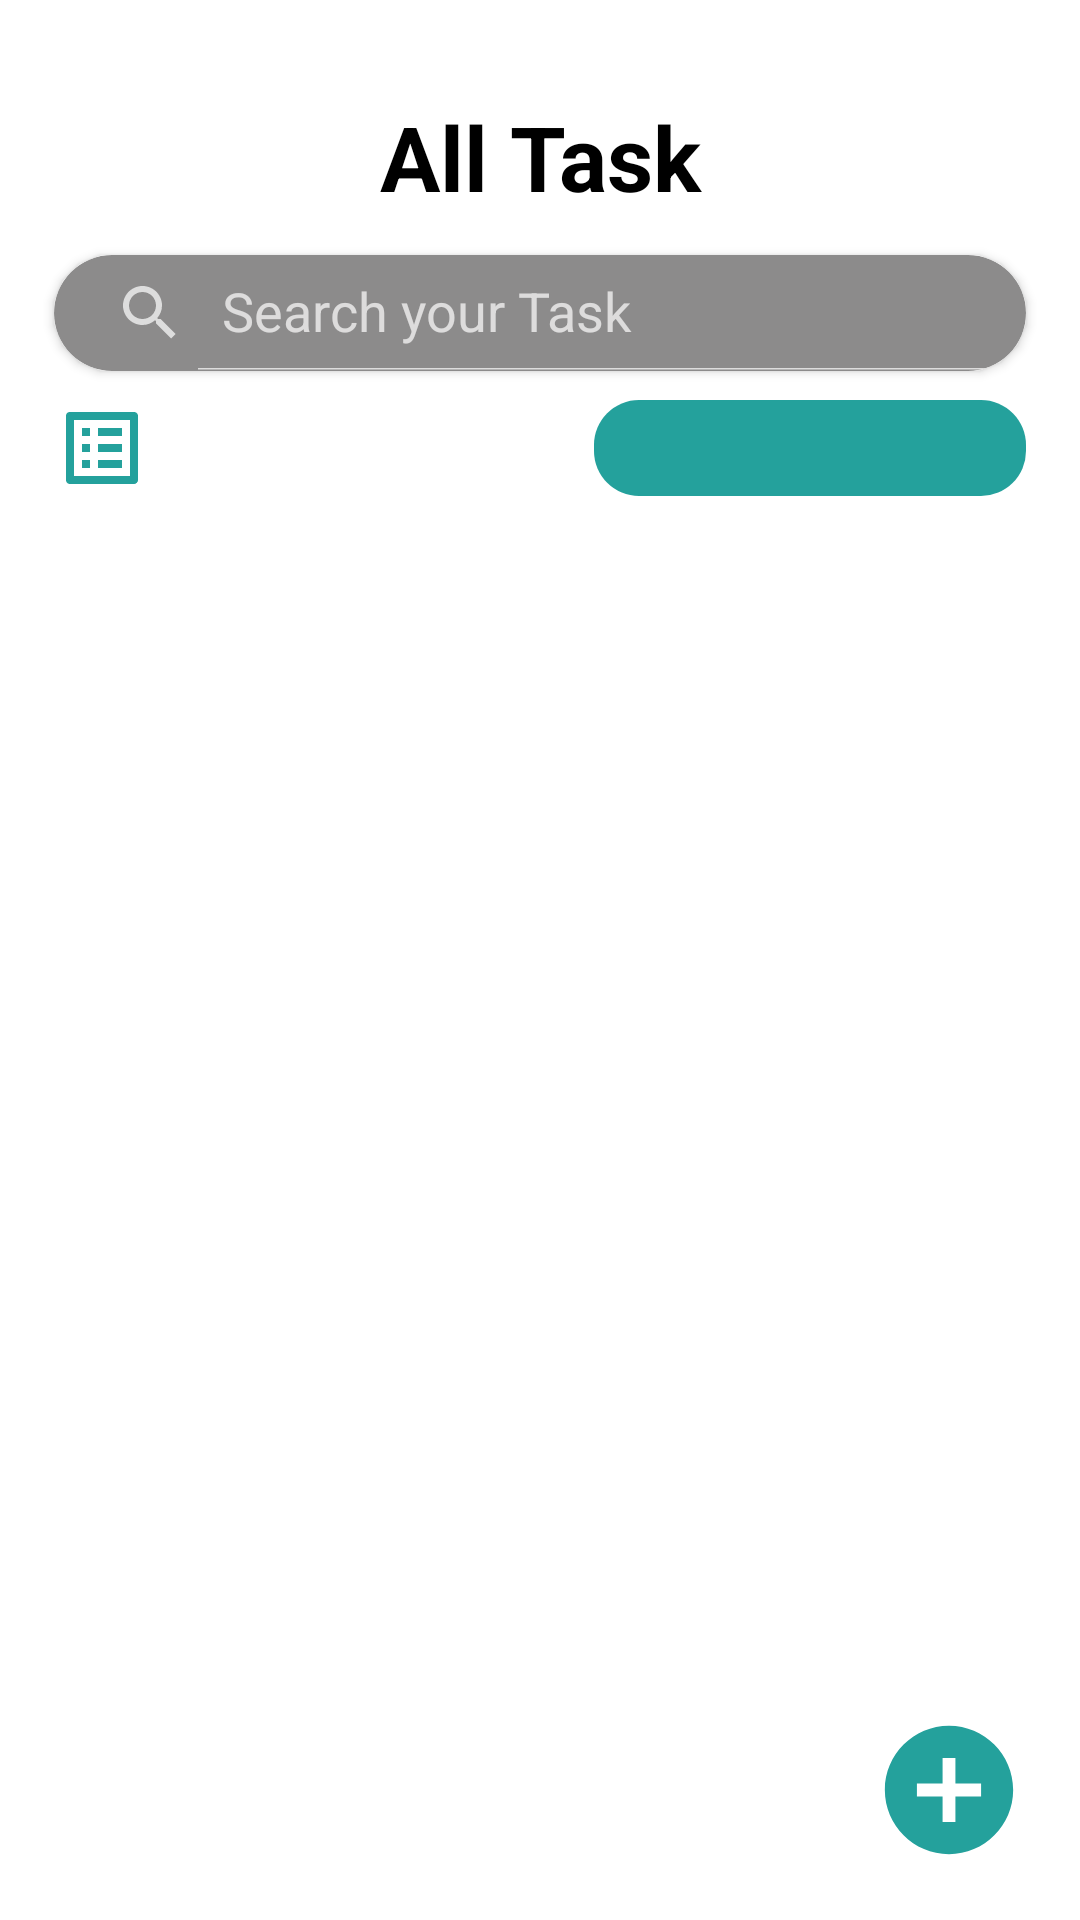

Icons on this 1080w x 1920h Android screen, each with the point to tap as point (x, y):
add: point (949, 1790)
